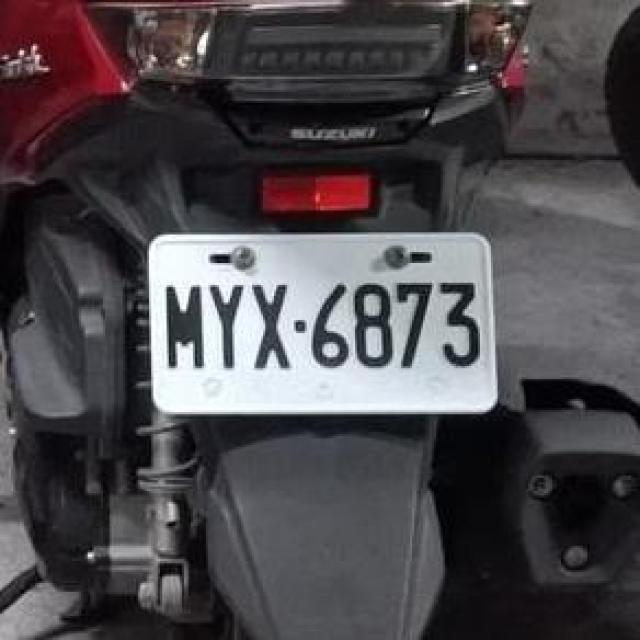W: (138, 219, 504, 425)
